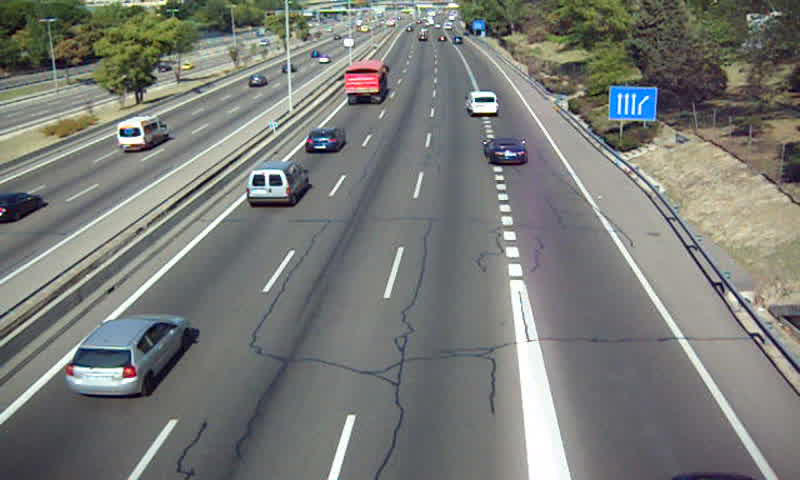car: (65, 314, 187, 396), (484, 136, 528, 165), (305, 126, 346, 154)
truck: (343, 62, 388, 103)
van: (247, 162, 309, 206), (464, 91, 499, 116)
